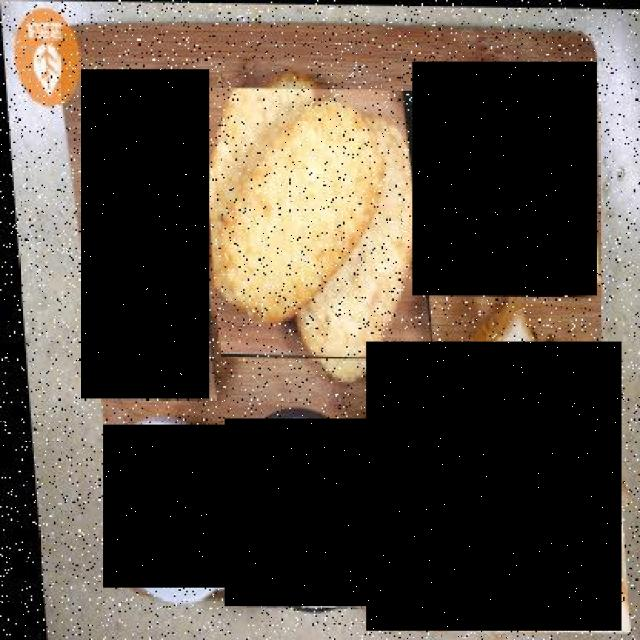Bread: (367, 342, 621, 632)
Butter: (103, 424, 226, 588)
Cheese: (412, 62, 597, 296), (225, 418, 368, 607)
Egg: (81, 70, 210, 399)
